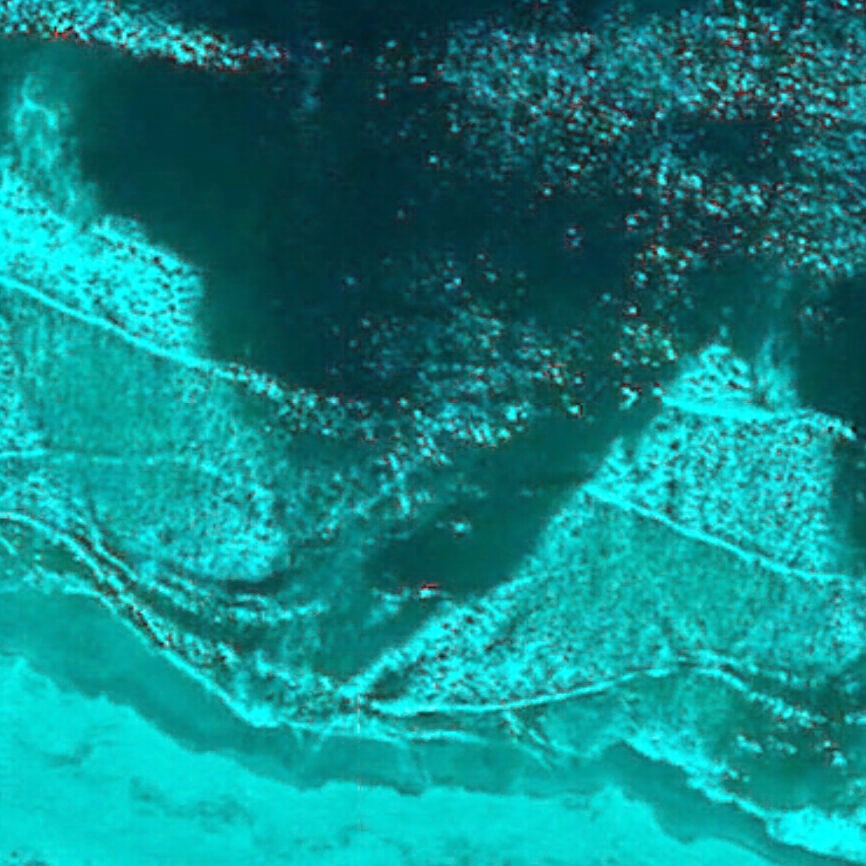rip_current: (206, 293, 730, 687)
